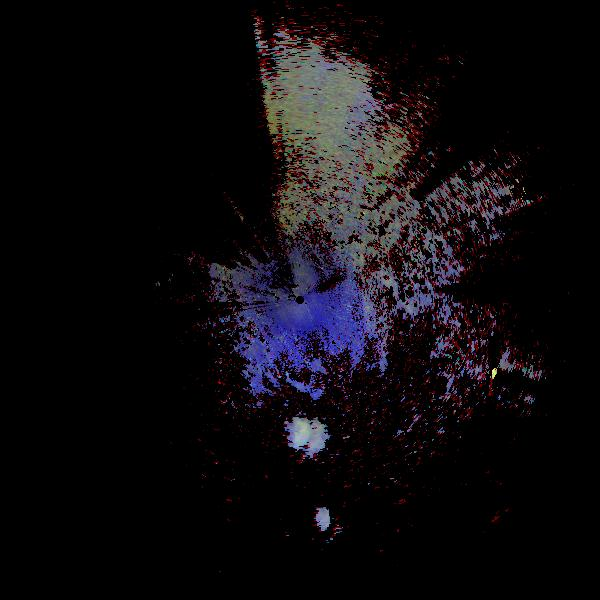roost: (300, 502, 333, 535), (281, 418, 311, 448)
